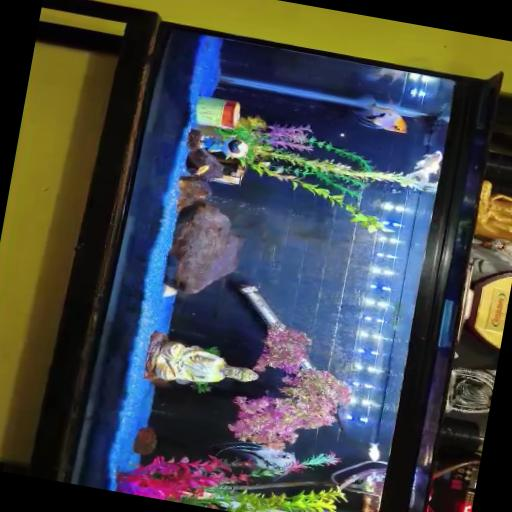Fish: (217, 441, 295, 475), (357, 102, 406, 133), (405, 151, 441, 188), (365, 67, 404, 82), (367, 443, 379, 461), (194, 164, 207, 175)
